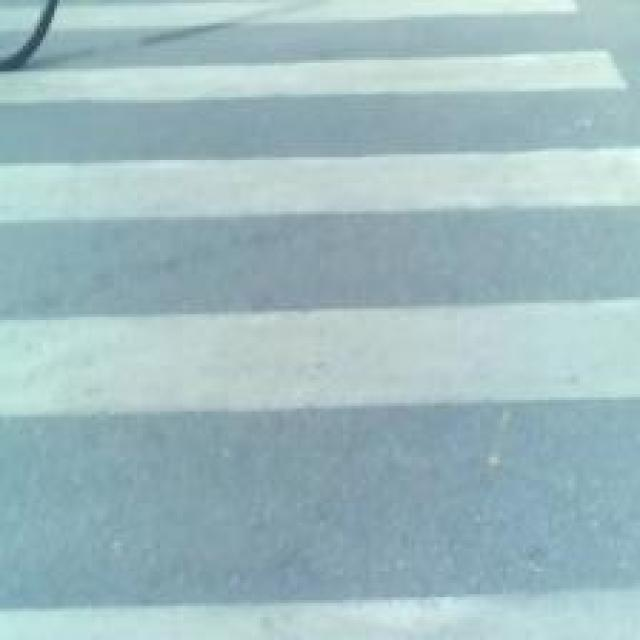walk-crossing: (44, 56, 576, 601)
